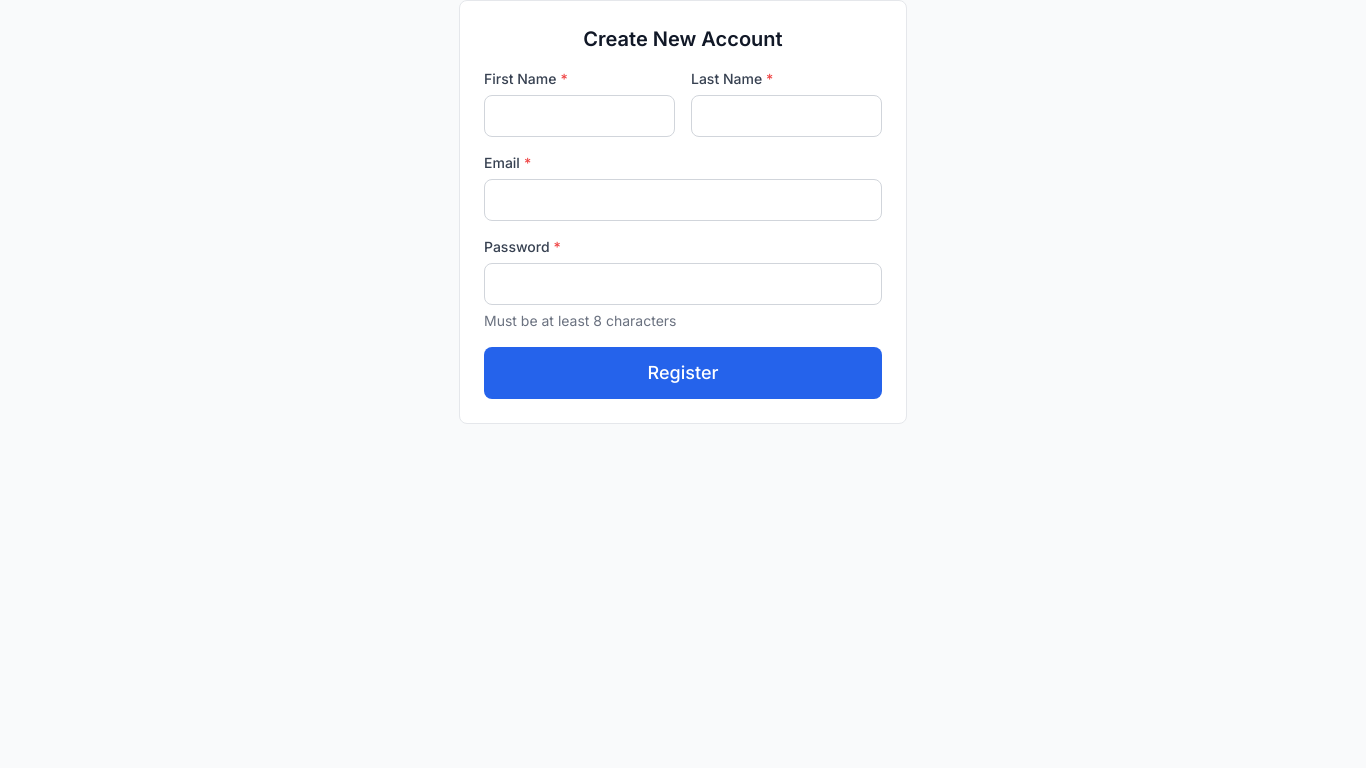
Test: RegisterForm › submits form and shows success modal on success response
In the field labelled "First Name*": point(580, 116) [484, 95, 675, 137], type "Jane"
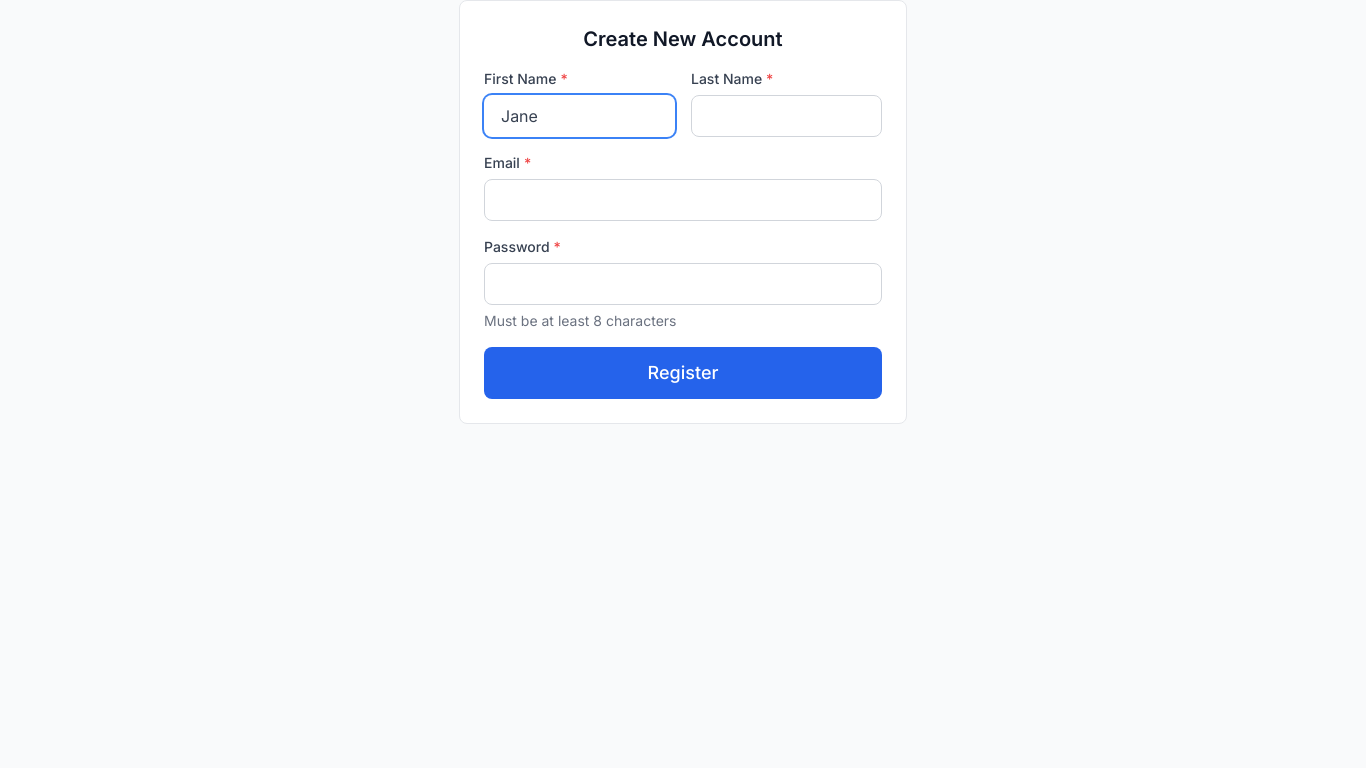
In the field labelled "Last Name*": point(786, 116) [691, 95, 882, 137], type "Doe"
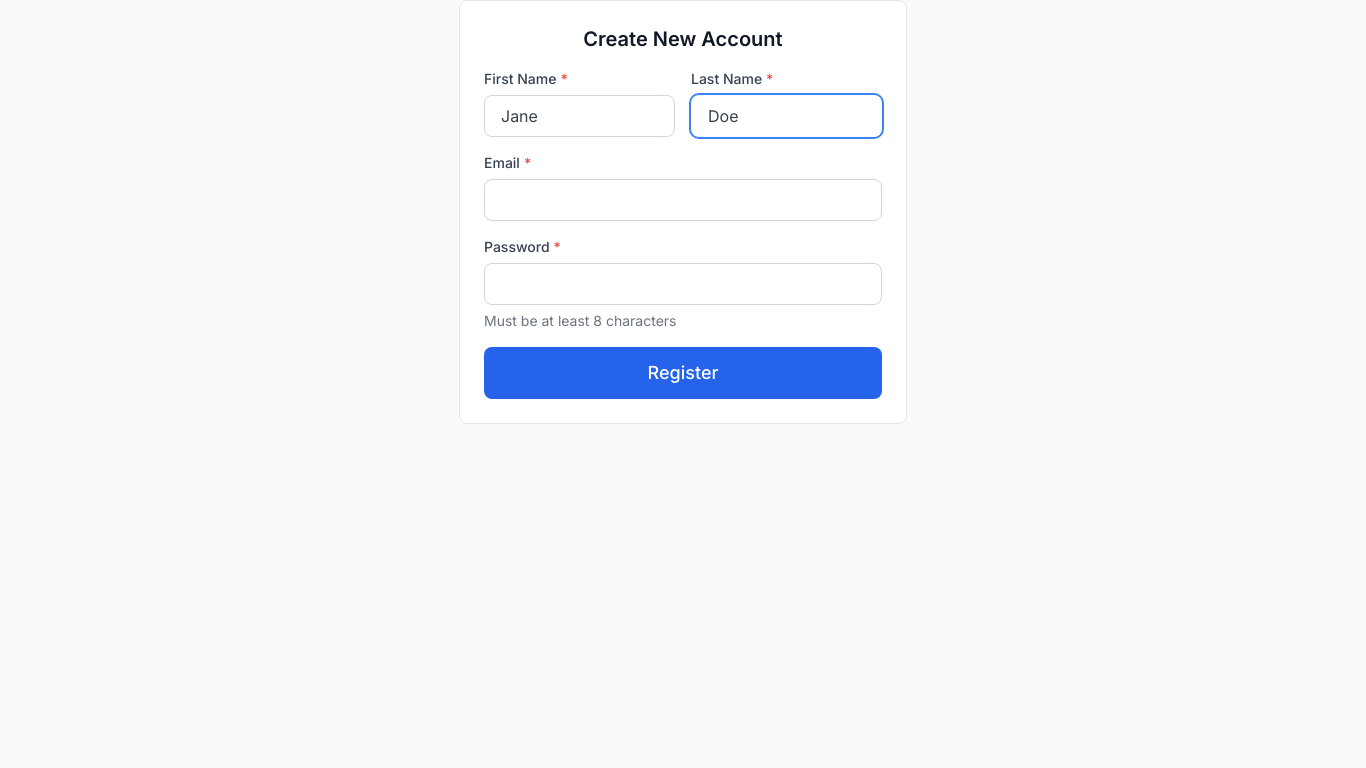
In the field labelled "Email*": point(683, 200) [484, 179, 882, 221], type "jane.doe@example.com"
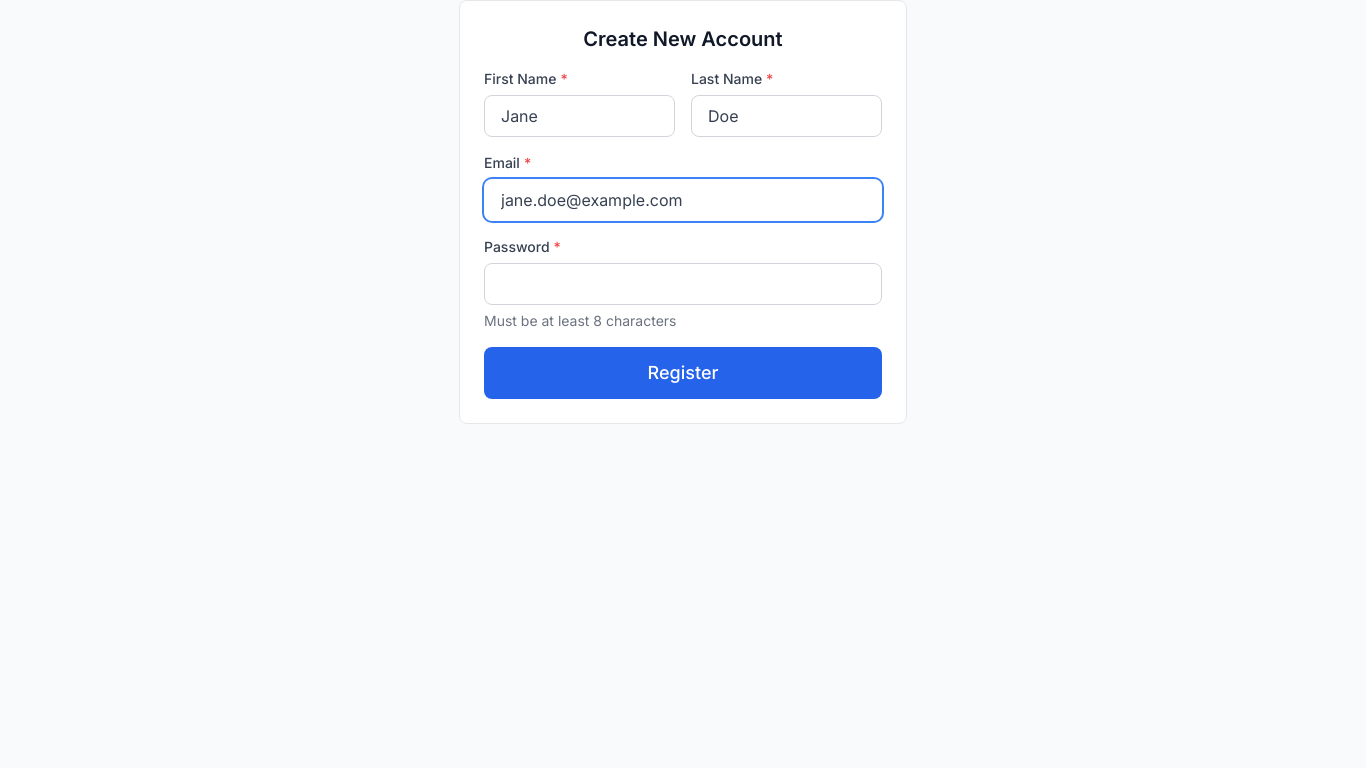
In the password field labelled "Password*": point(683, 284) [484, 263, 882, 305], type "SecurePass123!"
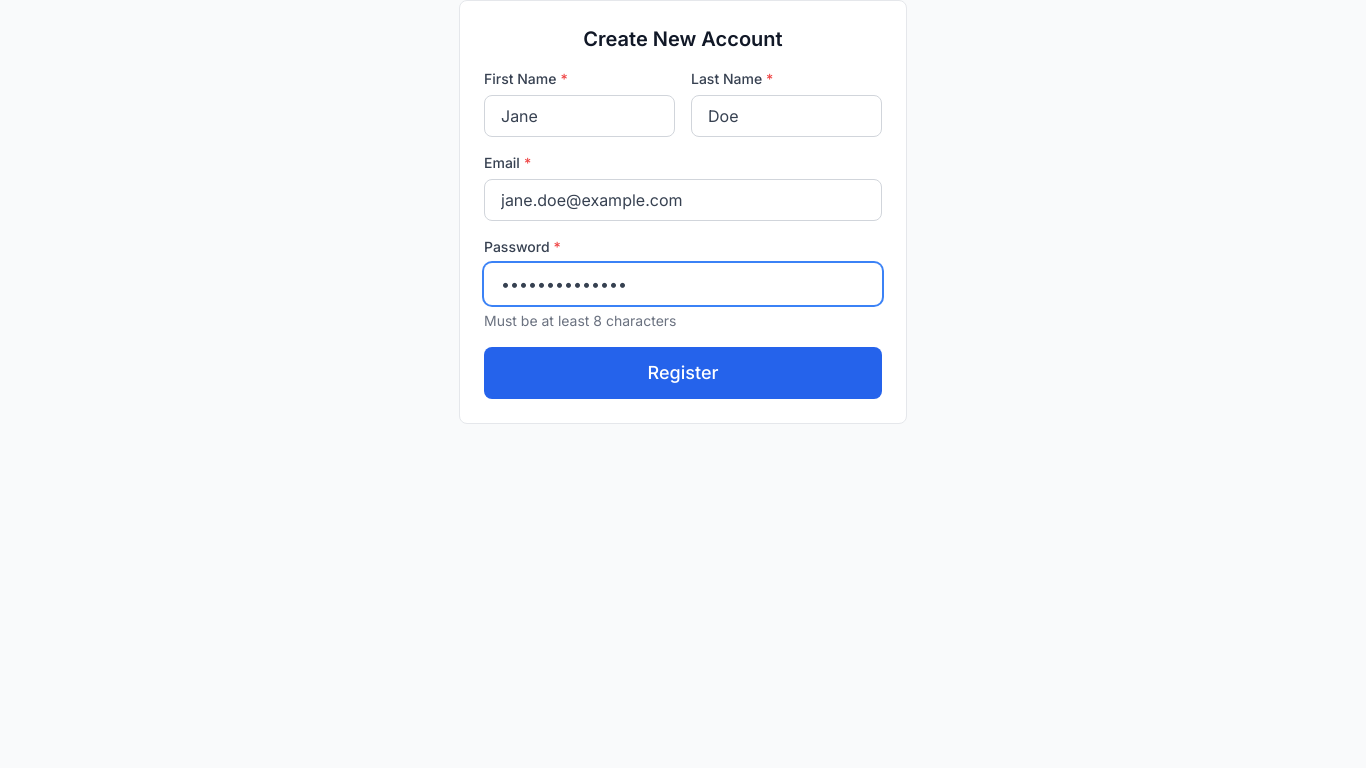
Submit the form named "submit registration form", box [484, 69, 882, 399]
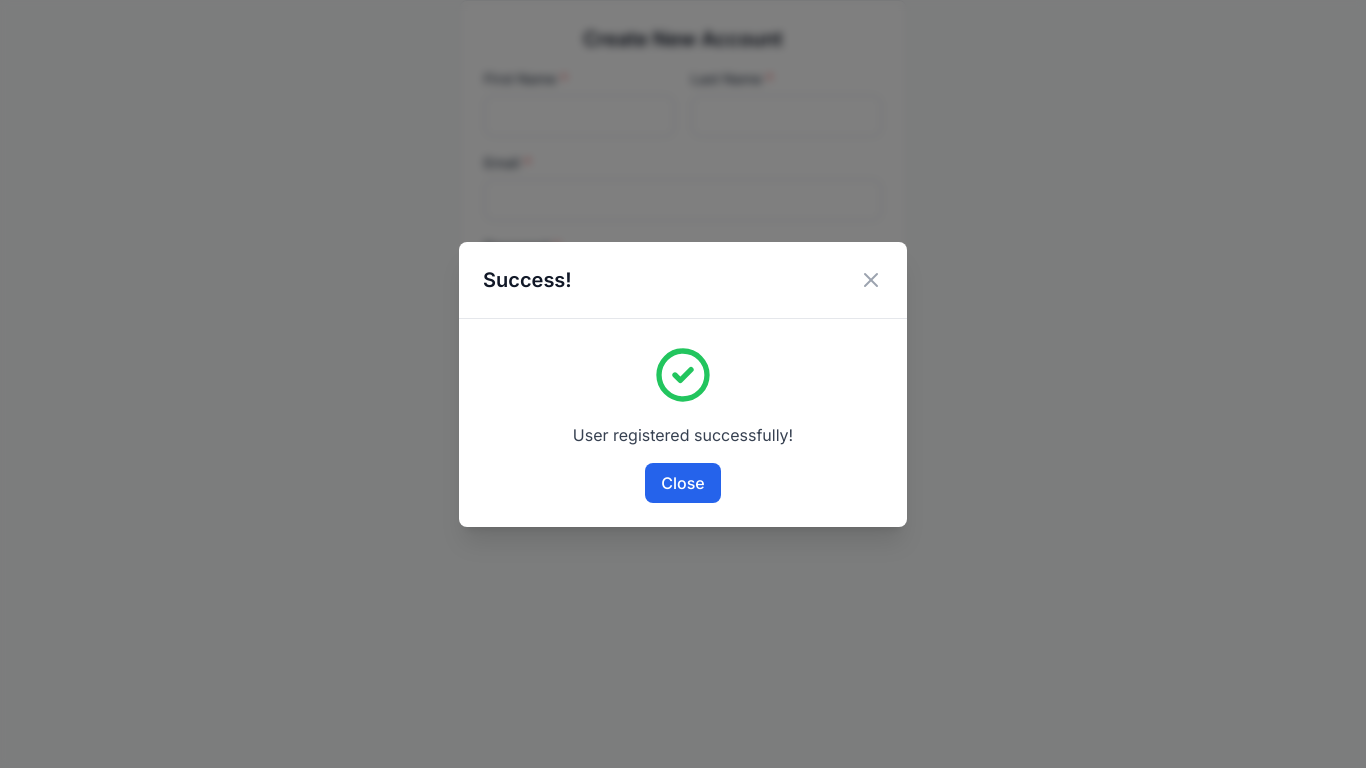
Now the text "User registered successfully!" is shown, box [573, 424, 793, 444]
